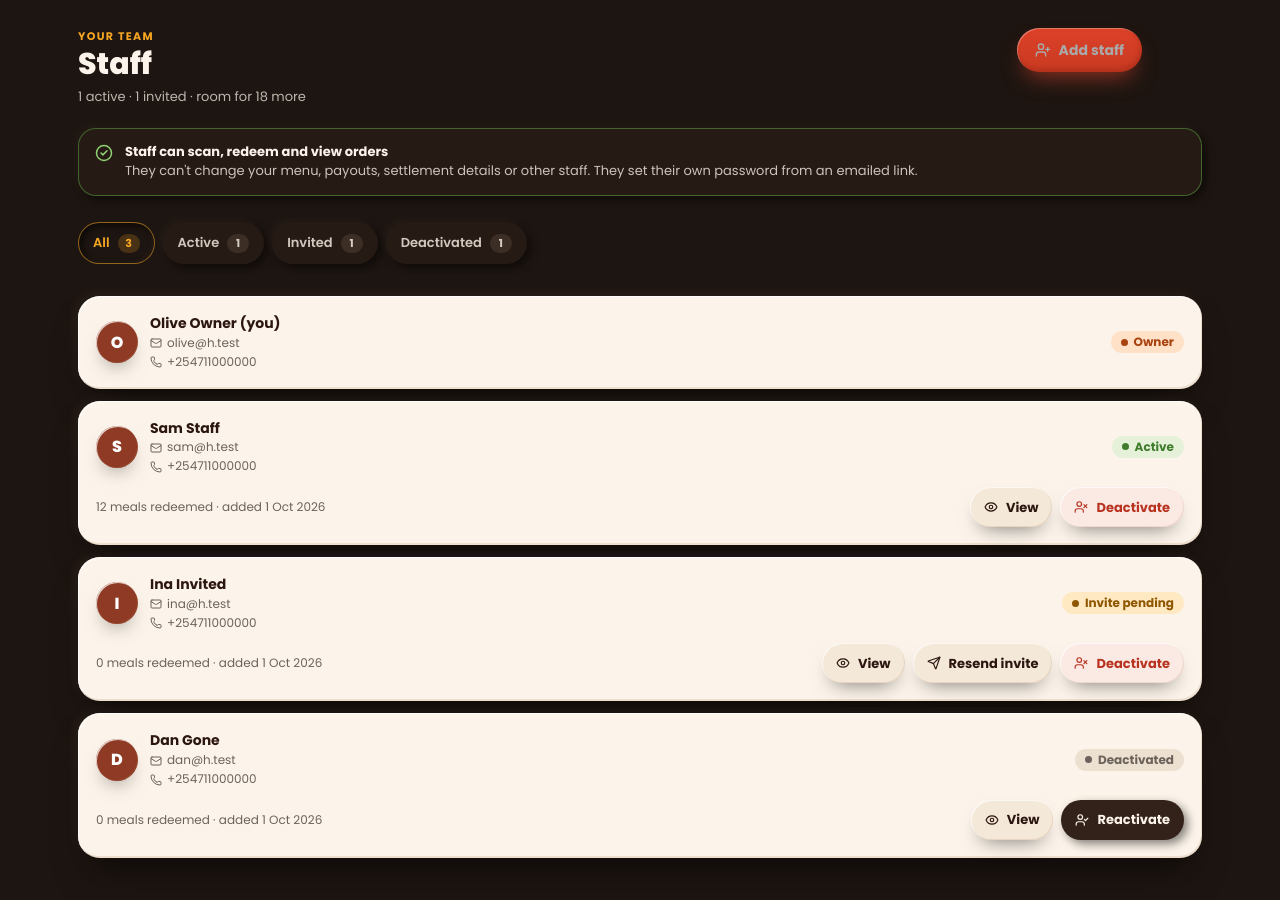
it: HotelStaffManageScreen › filters by status
Expected: the text "Sam Staff" is shown, [150,418,220,438]
Click the button "Deactivated 1". click: coordinates (456, 243)
box: [386,222,527,264]
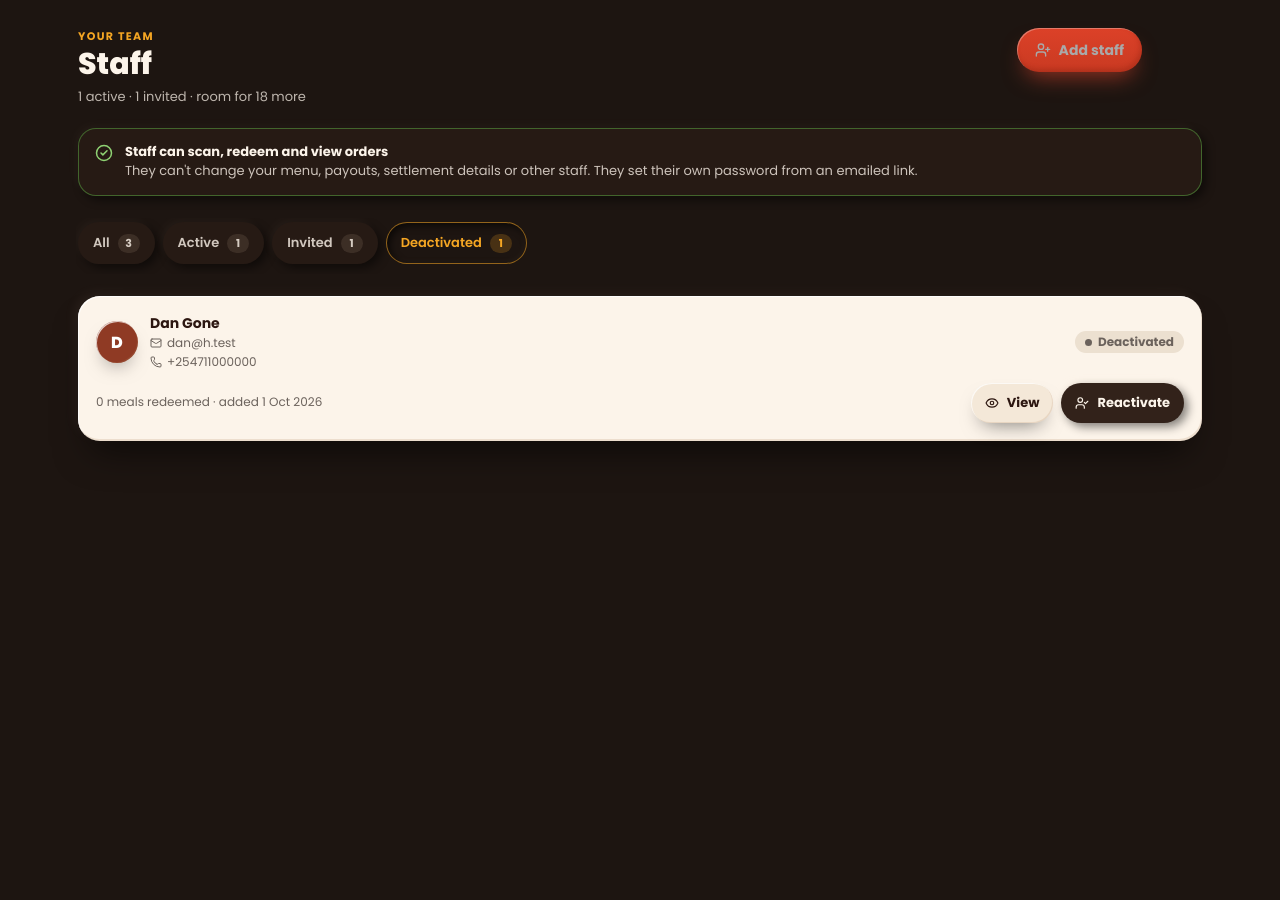
Expected: the text "Dan Gone" is shown, [150,313,220,333]
Expected: the text "Sam Staff" is gone
Expected: the text "Olive Owner" is gone
